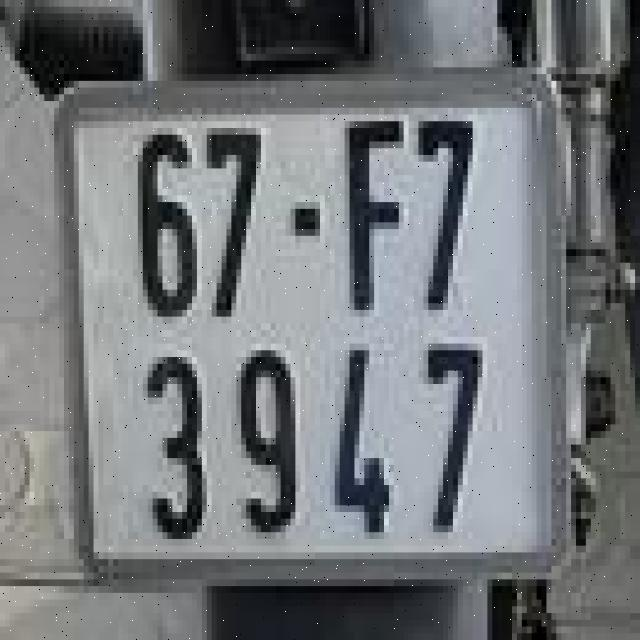3: (142, 347, 216, 556)
4: (325, 337, 399, 546)
6: (133, 114, 202, 323)
7: (197, 118, 271, 327), (411, 337, 485, 546), (416, 104, 480, 320)
9: (234, 340, 308, 549)
F: (330, 111, 413, 334)
